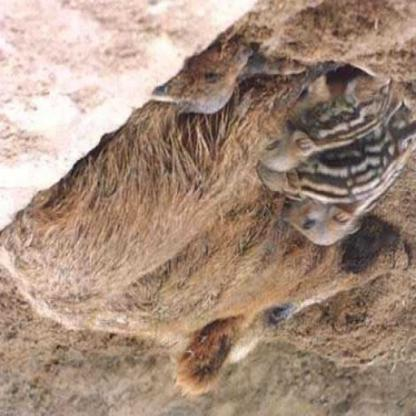boar: (3, 10, 415, 370), (276, 174, 415, 244)
